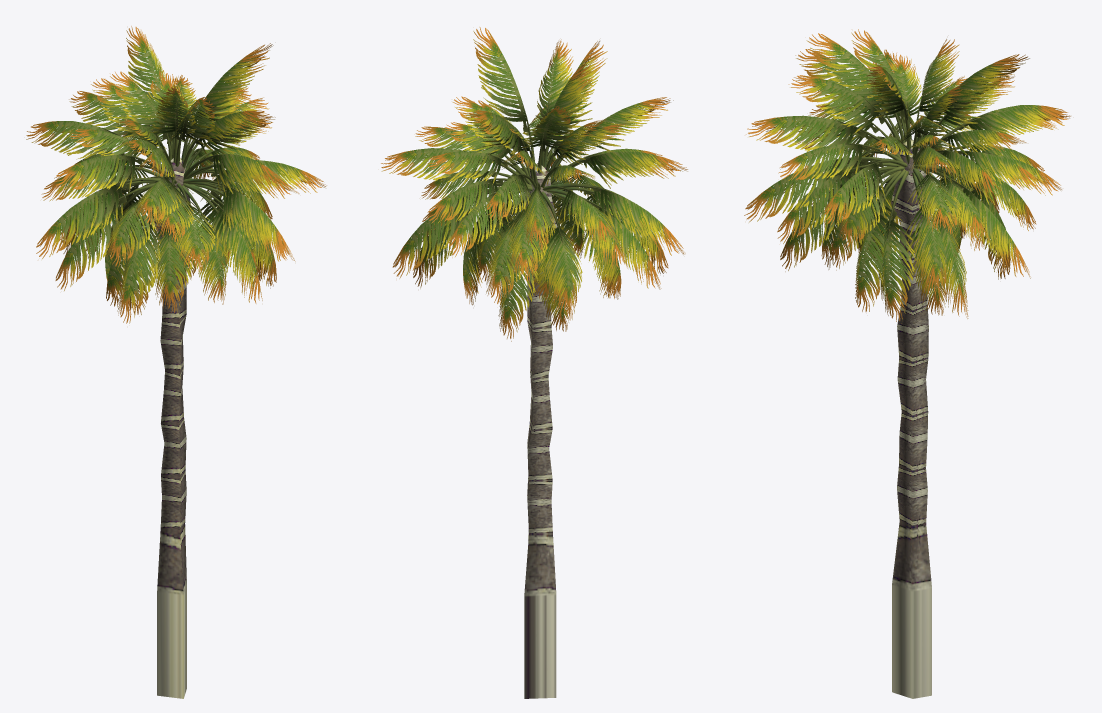
Rendered from tree_roystonea_regia_c.dae.
3 views of the same model, side by side, from view 1: azimuth 30°, elevation 25°; view 2: azimuth 150°, elevation 25°; view 3: azimuth 270°, elevation 25° (orthographic). The views are drawn at different scales.
Parts seen in each view (by area): view 1: C; view 2: C; view 3: C.
Boxes of the visible parts, left/top/right/bottom form: C: left=26, top=26, right=326, bottom=698; C: left=381, top=27, right=687, bottom=698; C: left=744, top=29, right=1070, bottom=698.
Bounding box in the file's own units: 14.86 × 15.71 × 32.47.
